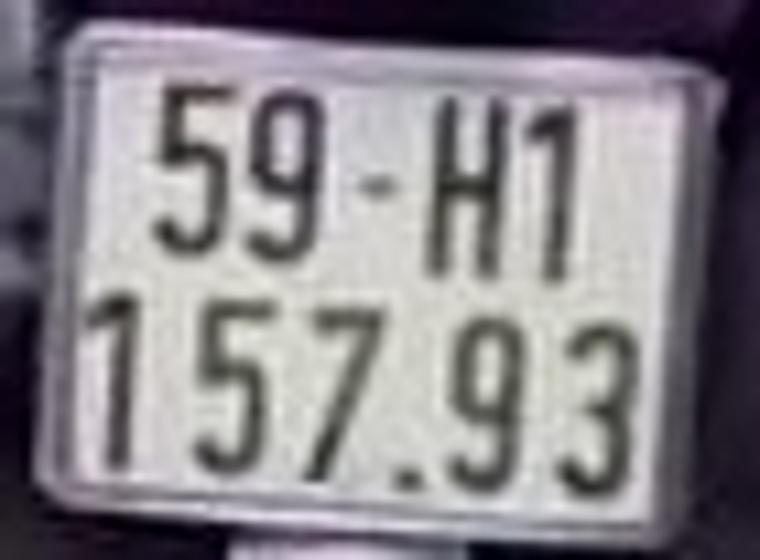-: (353, 167, 405, 206)
.: (394, 459, 423, 495)
1: (92, 290, 148, 477), (529, 104, 579, 286)
3: (557, 309, 630, 497)
5: (188, 299, 279, 479), (150, 78, 229, 260)
7: (306, 289, 379, 488)
9: (454, 307, 531, 496), (244, 84, 323, 265)
H: (423, 90, 513, 288)
